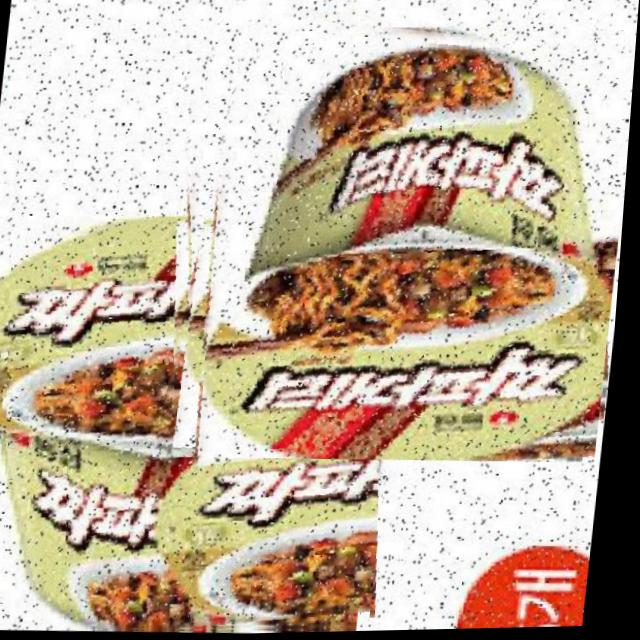Miscellaneous: (158, 6, 639, 472), (0, 203, 417, 640)
